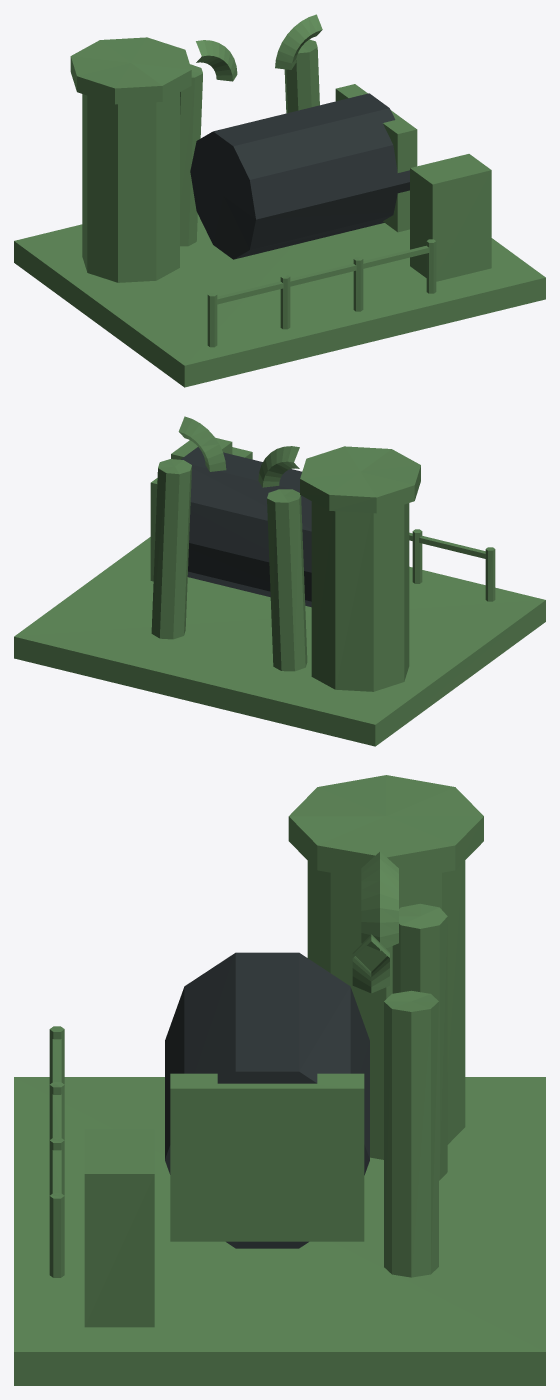
The model's file is Geothermal-Plant.glb.
3 renders of one model, top to bottom at view 1: azimuth 30°, elevation 25°; view 2: azimuth 150°, elevation 25°; view 3: azimuth 270°, elevation 25°, orthographic. The views are drawn at different scales.
Visible parts, largest first — view 1: geothermal-plant-static-geothermal-concrete, geothermal-plant-static-geothermal-turbine-charcoal, geothermal-plant-static-geothermal-service-teal, geothermal-plant-static-geothermal-copper-pipe, geothermal-plant-static-geothermal-safety-amber; view 2: geothermal-plant-static-geothermal-concrete, geothermal-plant-static-geothermal-copper-pipe, geothermal-plant-static-geothermal-turbine-charcoal, geothermal-plant-static-geothermal-service-teal, geothermal-plant-static-geothermal-safety-amber; view 3: geothermal-plant-static-geothermal-concrete, geothermal-plant-static-geothermal-service-teal, geothermal-plant-static-geothermal-copper-pipe, geothermal-plant-static-geothermal-turbine-charcoal, geothermal-plant-static-geothermal-safety-amber.
Boxes of the visible parts, left/top/right/bottom form: geothermal-plant-static-geothermal-concrete: left=14, top=92, right=545, bottom=387; geothermal-plant-static-geothermal-turbine-charcoal: left=190, top=93, right=409, bottom=259; geothermal-plant-static-geothermal-service-teal: left=70, top=37, right=491, bottom=281; geothermal-plant-static-geothermal-copper-pipe: left=180, top=14, right=322, bottom=246; geothermal-plant-static-geothermal-safety-amber: left=207, top=239, right=436, bottom=347; geothermal-plant-static-geothermal-concrete: left=14, top=501, right=545, bottom=746; geothermal-plant-static-geothermal-copper-pipe: left=151, top=416, right=307, bottom=671; geothermal-plant-static-geothermal-turbine-charcoal: left=180, top=447, right=311, bottom=607; geothermal-plant-static-geothermal-service-teal: left=150, top=437, right=420, bottom=581; geothermal-plant-static-geothermal-safety-amber: left=409, top=529, right=495, bottom=601; geothermal-plant-static-geothermal-concrete: left=14, top=860, right=545, bottom=1385; geothermal-plant-static-geothermal-service-teal: left=84, top=775, right=483, bottom=1327; geothermal-plant-static-geothermal-copper-pipe: left=352, top=851, right=447, bottom=1277; geothermal-plant-static-geothermal-turbine-charcoal: left=165, top=952, right=369, bottom=1248; geothermal-plant-static-geothermal-safety-amber: left=49, top=1026, right=64, bottom=1277.
Bounding box in the file's own units: 5.2 × 3.15 × 4.25.
